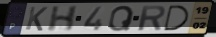4: (82, 6, 104, 31)
D: (163, 5, 191, 32)
H: (46, 5, 80, 32)
K: (24, 6, 49, 32)
Q: (107, 5, 136, 32)
R: (137, 5, 167, 32)
